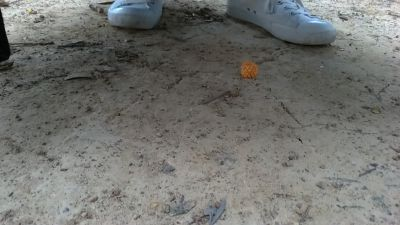eggs: (240, 59, 260, 80)
